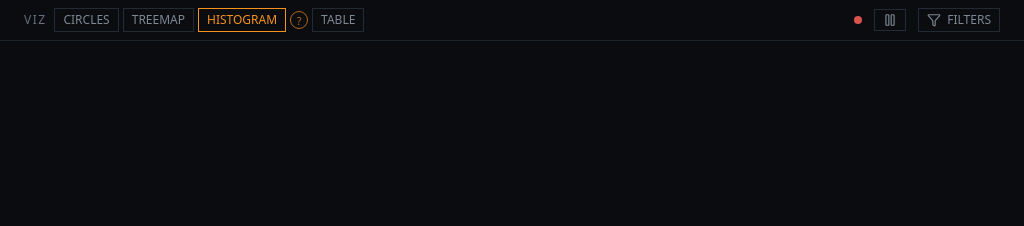
Test: ClusterControls › renders the BINS slider and no COLOR BY select for the histogram viz
Click the button named "Toggle filters". click: (959, 20)
box: [918,8,1000,32]
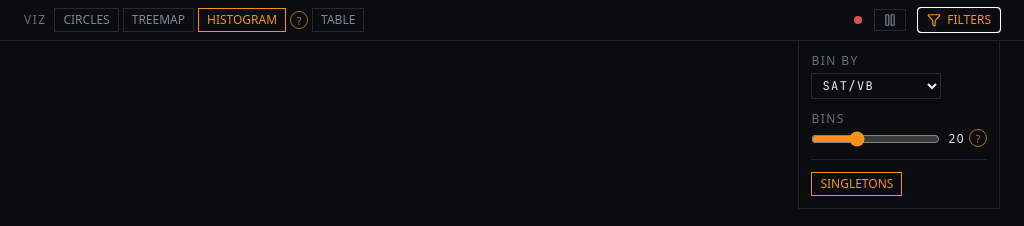
Expected: the text "COLOR BY" is not shown
Now the text "BINS" is shown, box [811,110,845,127]
Now the text "BIN BY" is shown, box [811,52,859,69]
